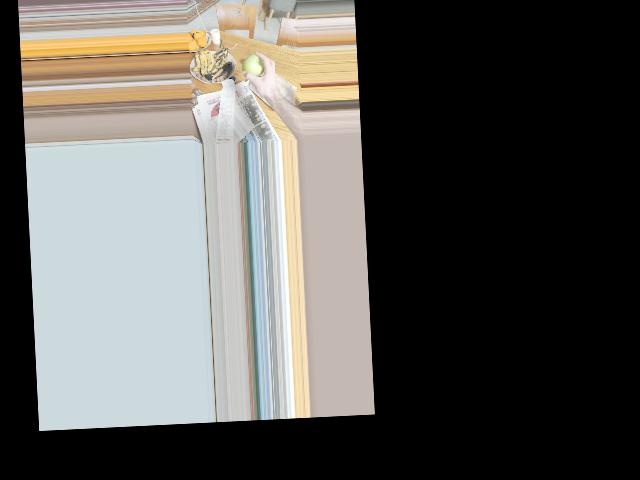apple: (243, 52, 264, 78)
